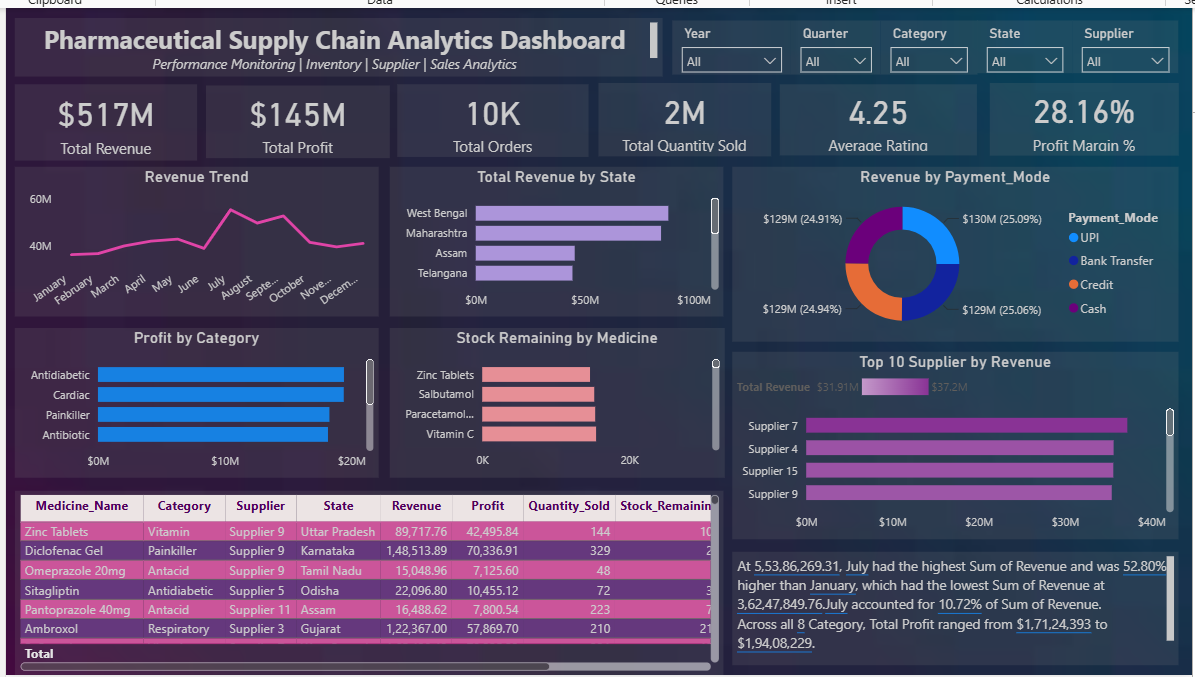

What the dashboard file says about the page in this screenshot:
{"tool":"powerbi","page":{"name":"Page 1","canvas":[1280,720],"ordinal":0},"visuals":[{"type":"textbox","box":[9.4,10.8,698.8,63.4],"z":0},{"type":"lineChart","title":"Revenue Trend","fields":{"Category":["pharma_supply_data.Order_Date.Variation.Date Hierarchy.Month"],"Y":["Sum(pharma_supply_data.Revenue)"]},"box":[9.4,171.3,392.6,161.9],"z":1000},{"type":"barChart","fields":{"Category":["pharma_supply_data.State"],"Y":["pharma_supply_data.Total Revenue"]},"box":[414.2,171.3,360.2,161.9],"z":2000},{"type":"clusteredBarChart","title":"Top 10 Supplier by Revenue","fields":{"Y":["pharma_supply_data.Total Revenue"],"Category":["pharma_supply_data.Supplier"]},"box":[783.8,371,481.6,202.4],"z":3000},{"type":"clusteredBarChart","title":"Stock Remaining by Medicine","fields":{"Category":["pharma_supply_data.Medicine_Name"],"Y":["Sum(pharma_supply_data.Stock_Remaining)"]},"box":[414.2,345.4,361.2,161.2],"z":4000},{"type":"barChart","title":"Profit by Category","fields":{"Category":["pharma_supply_data.Category"],"Y":["pharma_supply_data.Total Profit"]},"box":[9.4,345.4,392.6,161.9],"z":5000},{"type":"donutChart","title":" Revenue by Payment_Mode","fields":{"Y":["pharma_supply_data.Total Revenue"],"Category":["pharma_supply_data.Payment_Mode"]},"box":[783.8,171.3,481.6,188.9],"z":6000},{"type":"card","fields":{"Values":["pharma_supply_data.Total Revenue"]},"box":[9.4,82.3,197,82.3],"z":7000},{"type":"card","fields":{"Values":["pharma_supply_data.Total Quantity Sold"]},"box":[639.5,80.9,186.2,79.6],"z":8000},{"type":"card","fields":{"Values":["pharma_supply_data.Total Orders"]},"box":[422.5,82.5,206.2,78.8],"z":9000},{"type":"card","fields":{"Values":["pharma_supply_data.Total Profit"]},"box":[215.9,83.6,198.3,78.2],"z":10000},{"type":"tableEx","title":"Product Details Table","fields":{"Values":["pharma_supply_data.Medicine_Name","pharma_supply_data.Category","pharma_supply_data.Supplier","pharma_supply_data.State","pharma_supply_data.Revenue","pharma_supply_data.Profit","pharma_supply_data.Quantity_Sold","pharma_supply_data.Stock_Remaining","pharma_supply_data.Profit Margin %","pharma_supply_data.Return Rate %"]},"box":[9.4,520.7,764.9,199.7],"z":11000},{"type":"slicer","fields":{"Values":["pharma_supply_data.Year"]},"box":[719.1,13.5,128.2,58],"z":12000},{"type":"slicer","fields":{"Values":["pharma_supply_data.Quarter"]},"box":[847.2,13.5,97.1,58],"z":13000},{"type":"slicer","fields":{"Values":["pharma_supply_data.State"]},"box":[1048.2,13.5,102.5,56.7],"z":14000},{"type":"slicer","fields":{"Values":["pharma_supply_data.Category"]},"box":[944.4,13.5,103.9,58],"z":15000},{"type":"slicer","fields":{"Values":["pharma_supply_data.Supplier"]},"box":[1150.8,13.5,114.7,56.7],"z":16000},{"type":"card","fields":{"Values":["pharma_supply_data.Profit Margin %"]},"box":[1061.7,80.9,203.7,78.2],"z":17000},{"type":"card","fields":{"Values":["pharma_supply_data.Average Rating"]},"box":[835.1,82.3,213.2,76.9],"z":18000},{"type":"textbox","box":[783.8,586.8,481.6,122.8],"z":19000}]}

Visuals, with their boxes on the page's 1280x720 design canvas (x1, y1, x2, y2). These are canvas units, not pixel positions in the 1195x677 screenshot, which may show the page scaled, cropped or inside an application window:
textbox: bbox(9, 11, 708, 74)
"Revenue Trend" lineChart: bbox(9, 171, 402, 333)
barChart - pharma_supply_data.State x pharma_supply_data.Total Revenue: bbox(414, 171, 774, 333)
"Top 10 Supplier by Revenue" clusteredBarChart: bbox(784, 371, 1265, 573)
"Stock Remaining by Medicine" clusteredBarChart: bbox(414, 345, 775, 507)
"Profit by Category" barChart: bbox(9, 345, 402, 507)
" Revenue by Payment_Mode" donutChart: bbox(784, 171, 1265, 360)
card - pharma_supply_data.Total Revenue: bbox(9, 82, 206, 165)
card - pharma_supply_data.Total Quantity Sold: bbox(640, 81, 826, 160)
card - pharma_supply_data.Total Orders: bbox(422, 82, 629, 161)
card - pharma_supply_data.Total Profit: bbox(216, 84, 414, 162)
"Product Details Table" tableEx: bbox(9, 521, 774, 720)
slicer - pharma_supply_data.Year: bbox(719, 14, 847, 72)
slicer - pharma_supply_data.Quarter: bbox(847, 14, 944, 72)
slicer - pharma_supply_data.State: bbox(1048, 14, 1151, 70)
slicer - pharma_supply_data.Category: bbox(944, 14, 1048, 72)
slicer - pharma_supply_data.Supplier: bbox(1151, 14, 1266, 70)
card - pharma_supply_data.Profit Margin %: bbox(1062, 81, 1265, 159)
card - pharma_supply_data.Average Rating: bbox(835, 82, 1048, 159)
textbox: bbox(784, 587, 1265, 710)
